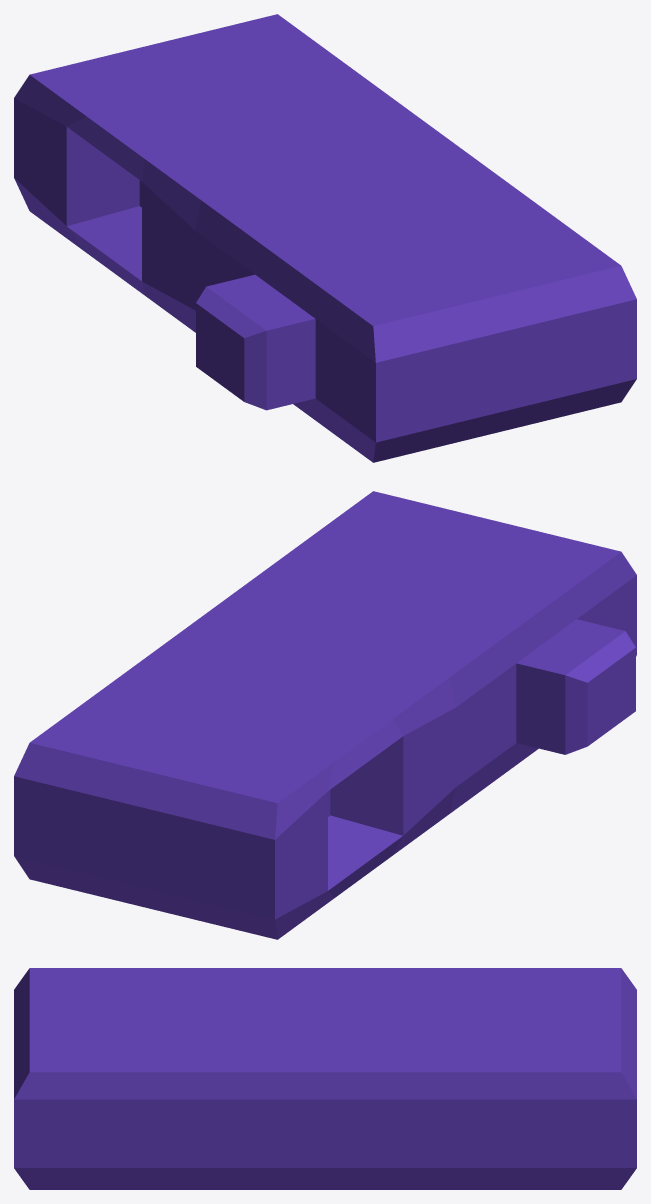
File: ZipsElement.fbx
The picture shows the model from 3 angles, top to bottom: view 1: azimuth 30°, elevation 25°; view 2: azimuth 150°, elevation 25°; view 3: azimuth 270°, elevation 25°; orthographic projection. The views are drawn at different scales.
Parts seen in each view (by area): view 1: Cube; view 2: Cube; view 3: Cube.
Part boxes in pixels (box(x1,y1,x2,y2)): Cube: box(14, 14, 636, 462); Cube: box(14, 491, 636, 939); Cube: box(14, 968, 636, 1189).
Bounding box in the file's own units: 50 × 20 × 96.
